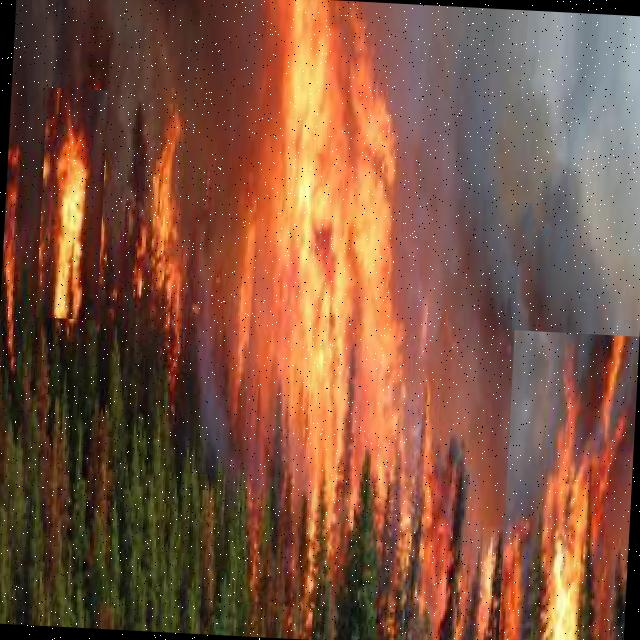fire: (236, 0, 448, 610), (498, 330, 640, 640), (36, 87, 108, 320)
